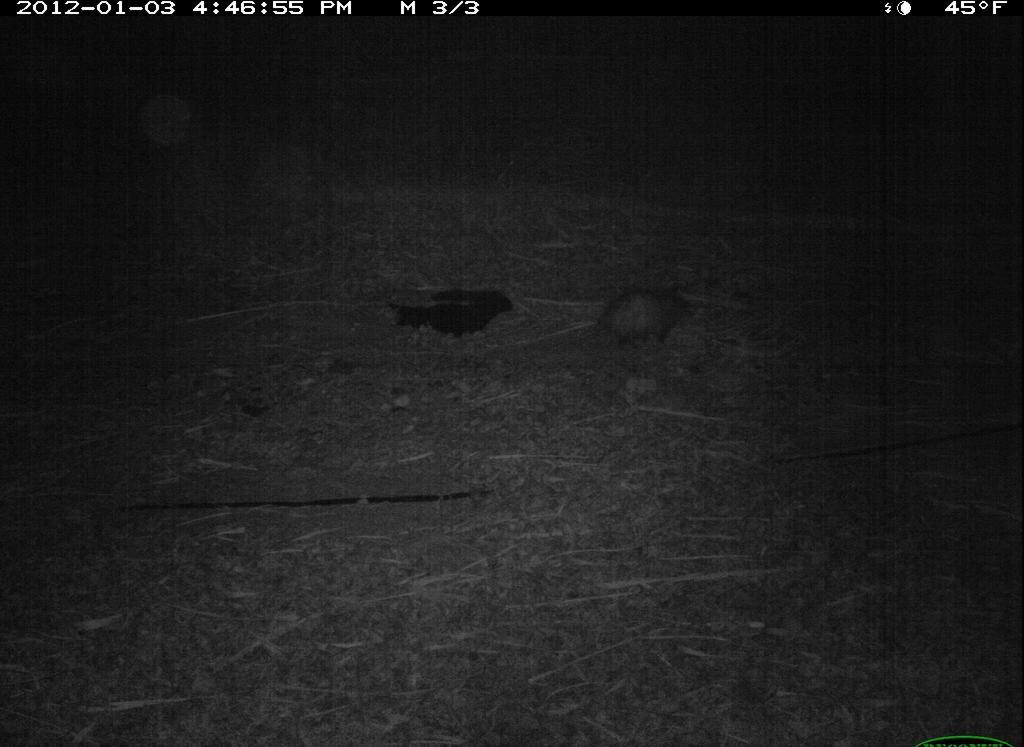opossum: (587, 272, 698, 358)
